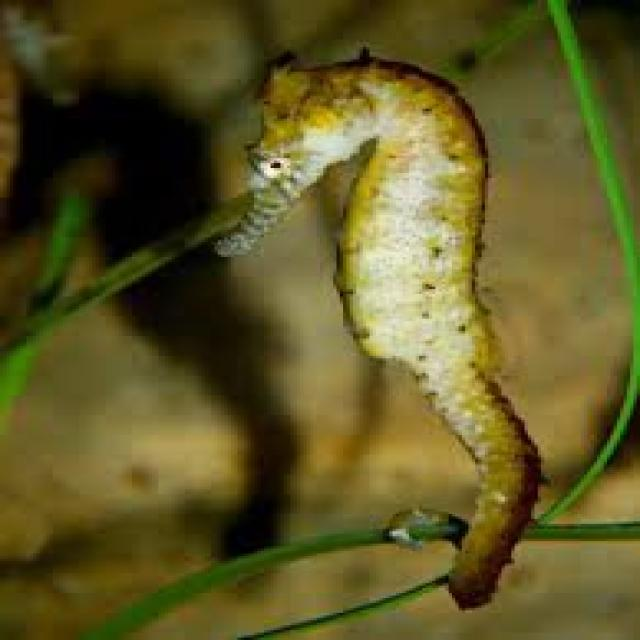seahorse: (214, 49, 541, 608)
